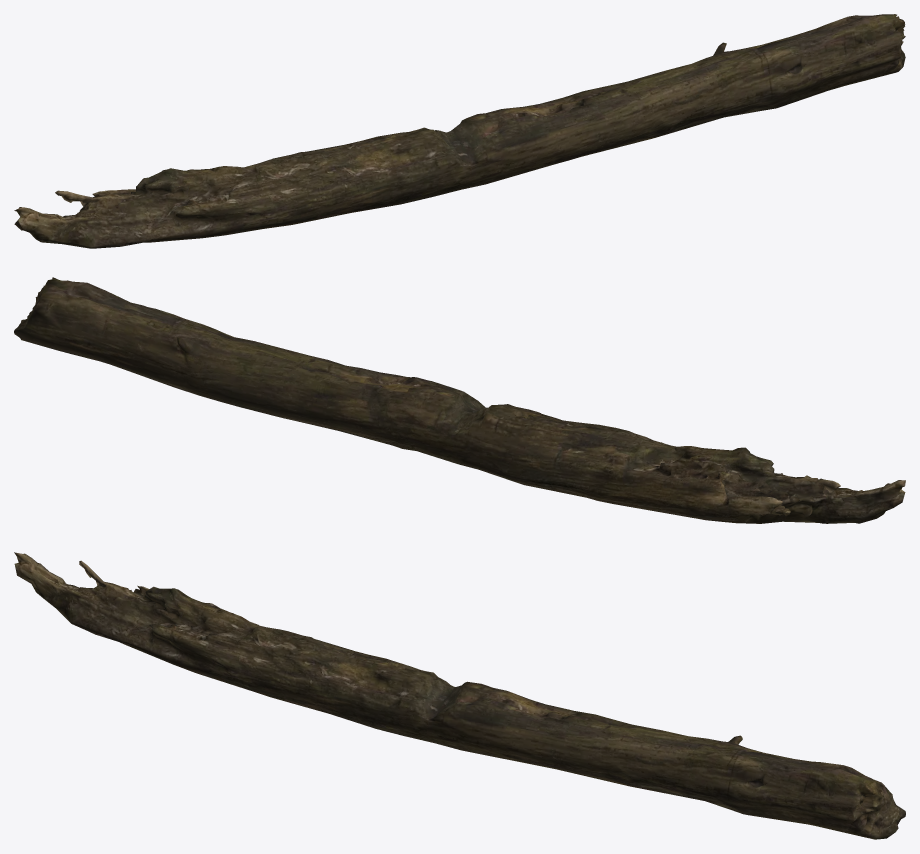
Rendered from dead_tree_trunk.glb.
3 renders of one model, top to bottom at view 1: azimuth 30°, elevation 25°; view 2: azimuth 150°, elevation 25°; view 3: azimuth 330°, elevation 25°, orthographic.
Parts seen in each view (by area): view 1: dead_tree_trunk; view 2: dead_tree_trunk; view 3: dead_tree_trunk.
Part boxes in pixels (x1,y1,x2,y2): dead_tree_trunk: (14,14,905,248); dead_tree_trunk: (14,277,905,523); dead_tree_trunk: (14,552,905,839).
Bounding box in the file's own units: 3.05 × 0.2875 × 0.2774.
Materials: 1 (1 with a texture image).
